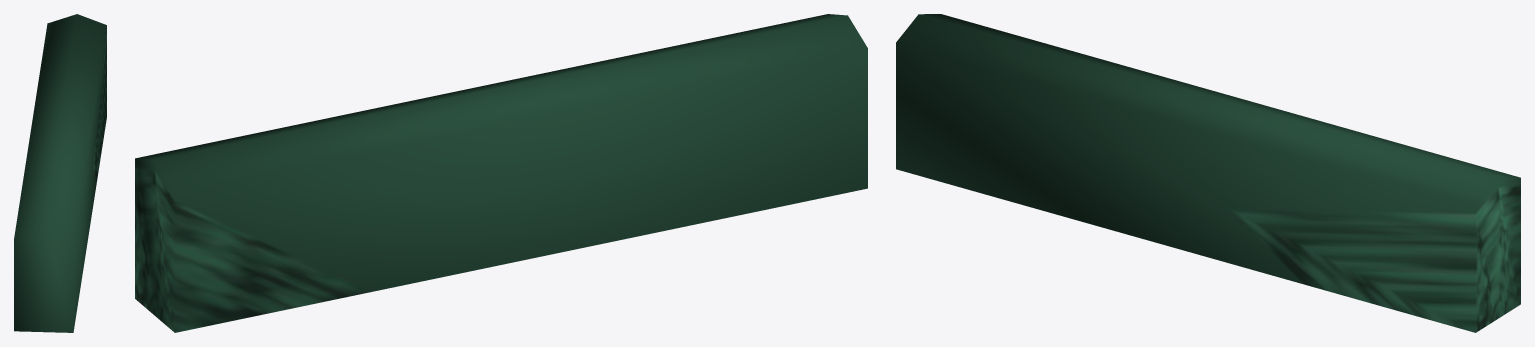
File: Ring5W3.fbx
3 views of the same model, side by side, from view 1: azimuth 30°, elevation 25°; view 2: azimuth 150°, elevation 25°; view 3: azimuth 270°, elevation 25° (orthographic). The views are drawn at different scales.
Visible parts, largest first — view 1: Ring5W3; view 2: Ring5W3; view 3: Ring5W3.
Boxes of the visible parts, bbox=[...] form: Ring5W3: bbox=[14, 14, 106, 332]; Ring5W3: bbox=[135, 14, 867, 332]; Ring5W3: bbox=[896, 14, 1520, 332].
Bounding box in the file's own units: 1172 × 400 × 1609.
